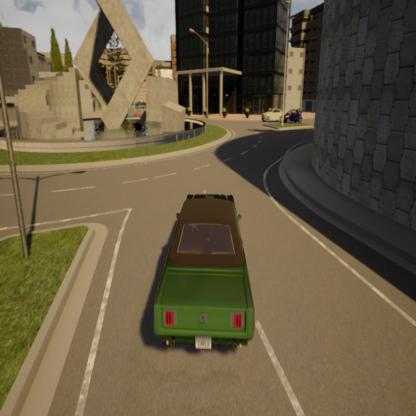Cars: (144, 184, 266, 366), (283, 105, 304, 124), (261, 107, 283, 124)
